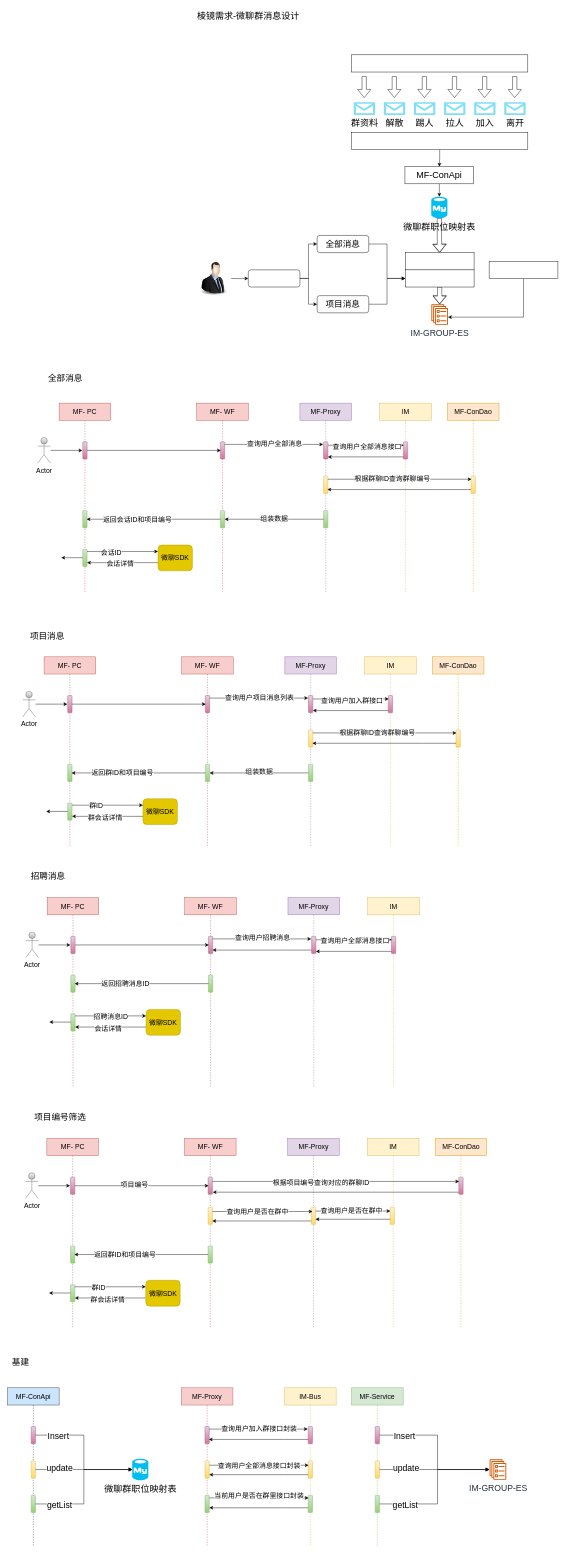
Some shapes in this 565 by 1554 pixel diagram are drawn without their labels. Here are the shapes that lost their labels. From the top down, the centre of each, then its label:
At [439,63]: "IM-WMB".
At [439,140]: "MF-WMB".
At [274,278]: "微聊消息页".
At [439,261]: "ES-CONSUMER".
At [439,278]: "ES-SERVICE".
At [523,269]: "MF-WJOB".
